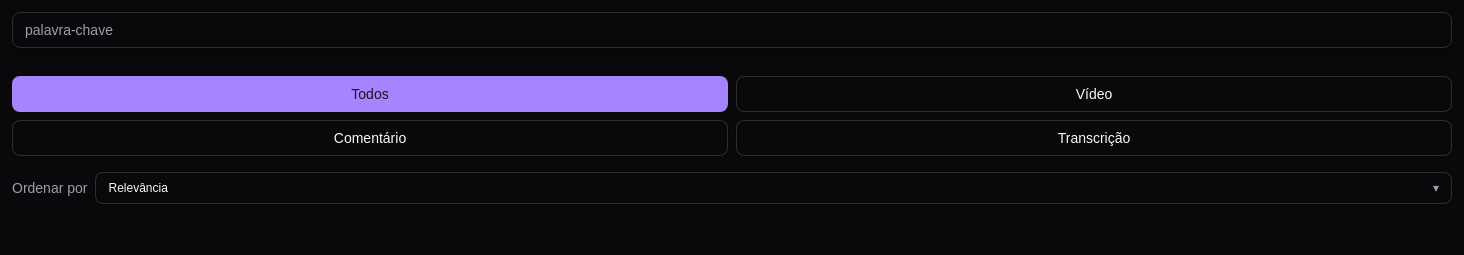
SearchView › renderiza estado vazio quando o total de resultados é zero
Type "gato" into the search field named "Buscar" at (732, 30), box [12,12,1452,48]
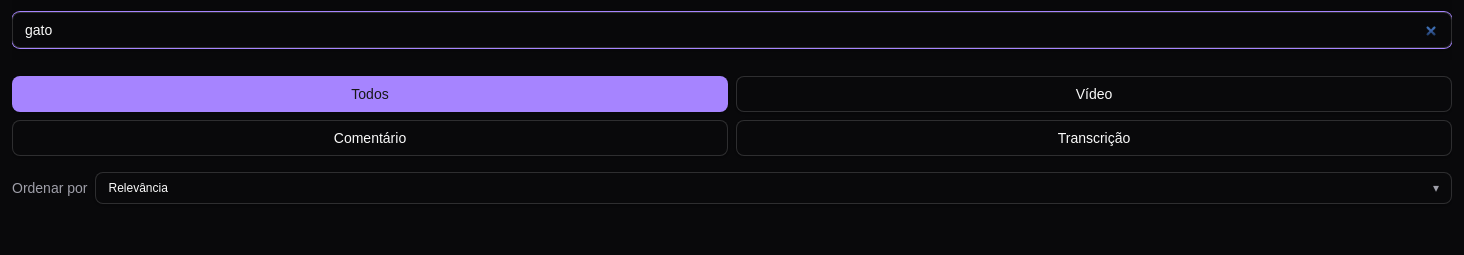
Press Enter in the search field named "Buscar", box [12,12,1452,48]
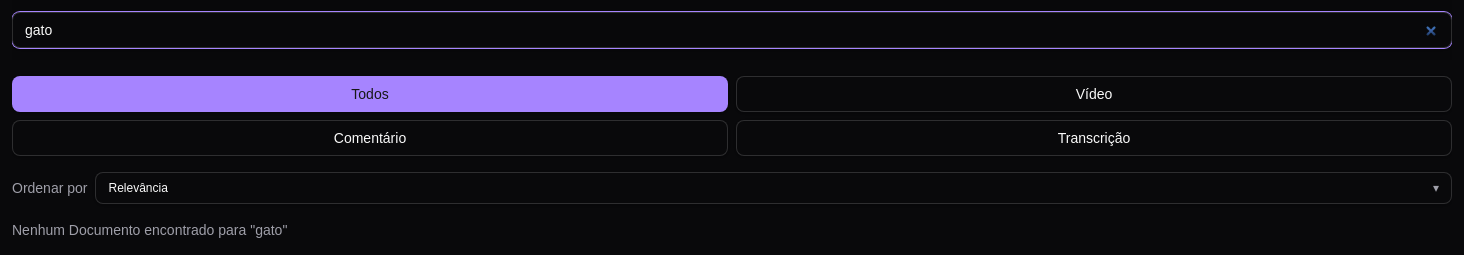
Result: the text "Nenhum Documento encontrado para \"gato\"" is shown at [12,222,287,238]
